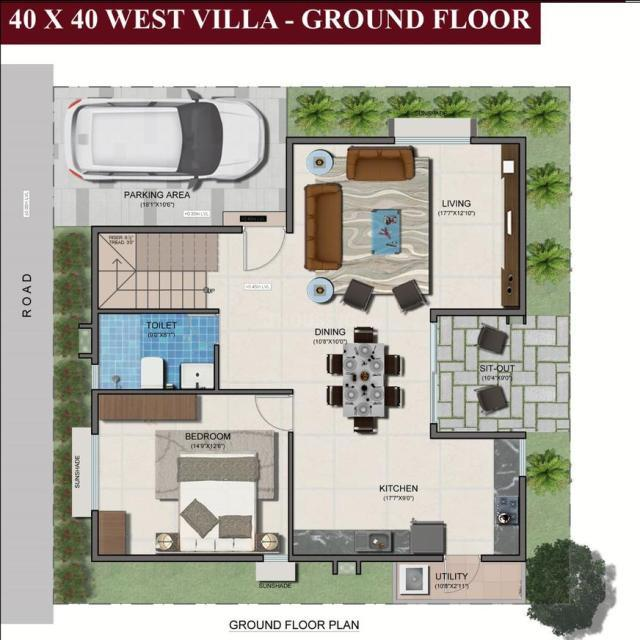Bedroom with Toilet: (93, 308, 294, 560)
Dining: (320, 321, 407, 438)
Kitchen: (289, 432, 527, 560)
Living: (285, 137, 528, 316)
Toilet: (92, 309, 221, 393)
Utility: (394, 553, 530, 608)
